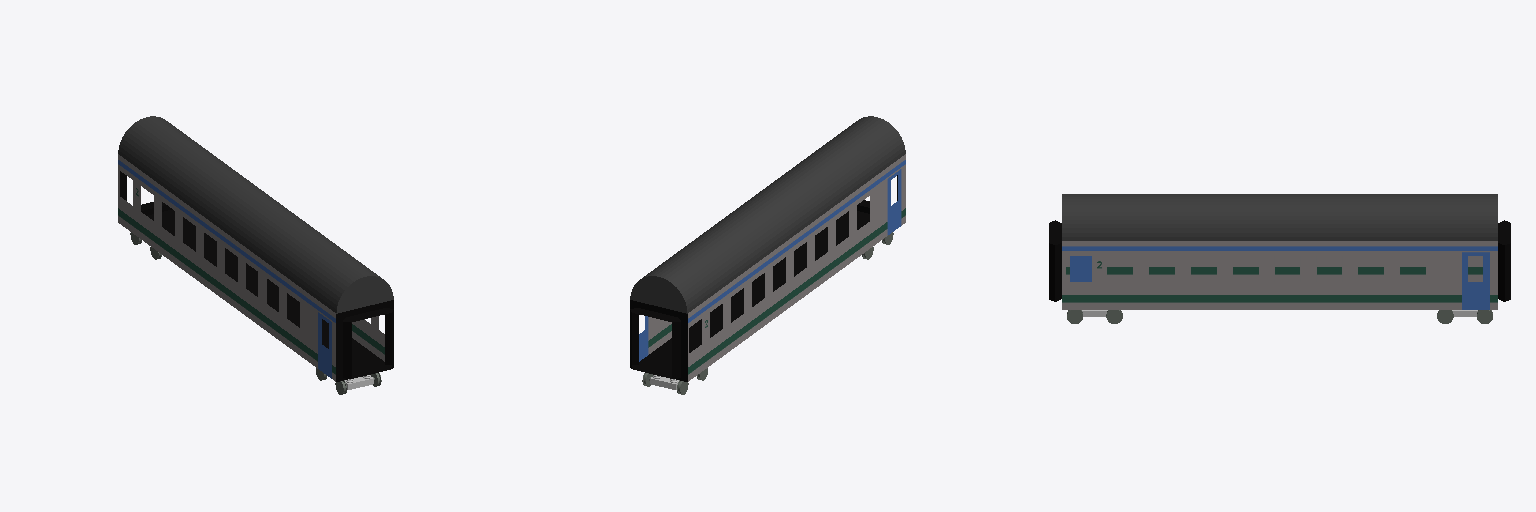
The picture shows the model from 3 angles: view 1: azimuth 30°, elevation 25°; view 2: azimuth 150°, elevation 25°; view 3: azimuth 270°, elevation 25°; orthographic projection.
Parts seen in each view (by area): view 1: Cylinder.029_Cylinder.001; view 2: Cylinder.029_Cylinder.001; view 3: Cylinder.029_Cylinder.001.
Boxes of the visible parts, x1,y1,x2,y2 form: Cylinder.029_Cylinder.001: [118, 116, 393, 381]; Cylinder.029_Cylinder.001: [630, 116, 905, 381]; Cylinder.029_Cylinder.001: [1049, 194, 1510, 309].
Bounding box in the file's own units: 10 × 19.7 × 70.
3 materials, 1 textured.